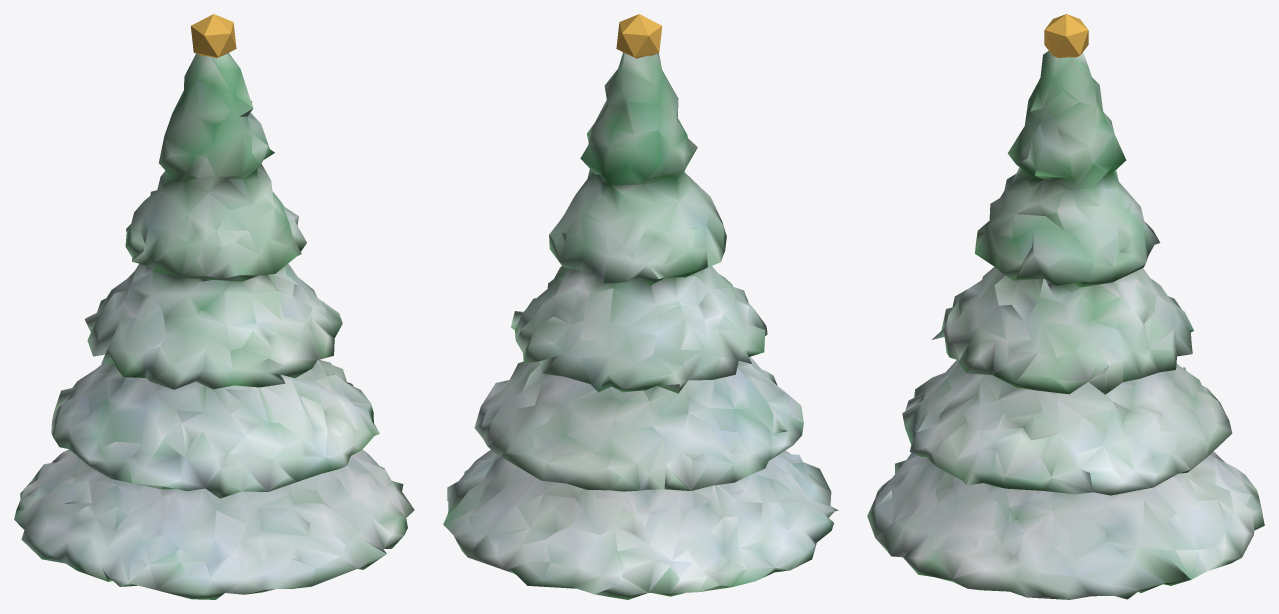
The model's file is frost_toy_tree_lod1.glb.
3 renders of one model, left to right at view 1: azimuth 30°, elevation 25°; view 2: azimuth 150°, elevation 25°; view 3: azimuth 270°, elevation 25°, orthographic.
Parts seen in each view (by area): view 1: frost_toy_tree.001; view 2: frost_toy_tree.001; view 3: frost_toy_tree.001.
Boxes of the visible parts, x1,y1,x2,y2 form: frost_toy_tree.001: (14, 14, 414, 599); frost_toy_tree.001: (443, 14, 838, 599); frost_toy_tree.001: (867, 14, 1264, 599).
Size of the model in its own units: 19.91 by 29.99 by 19.76.
